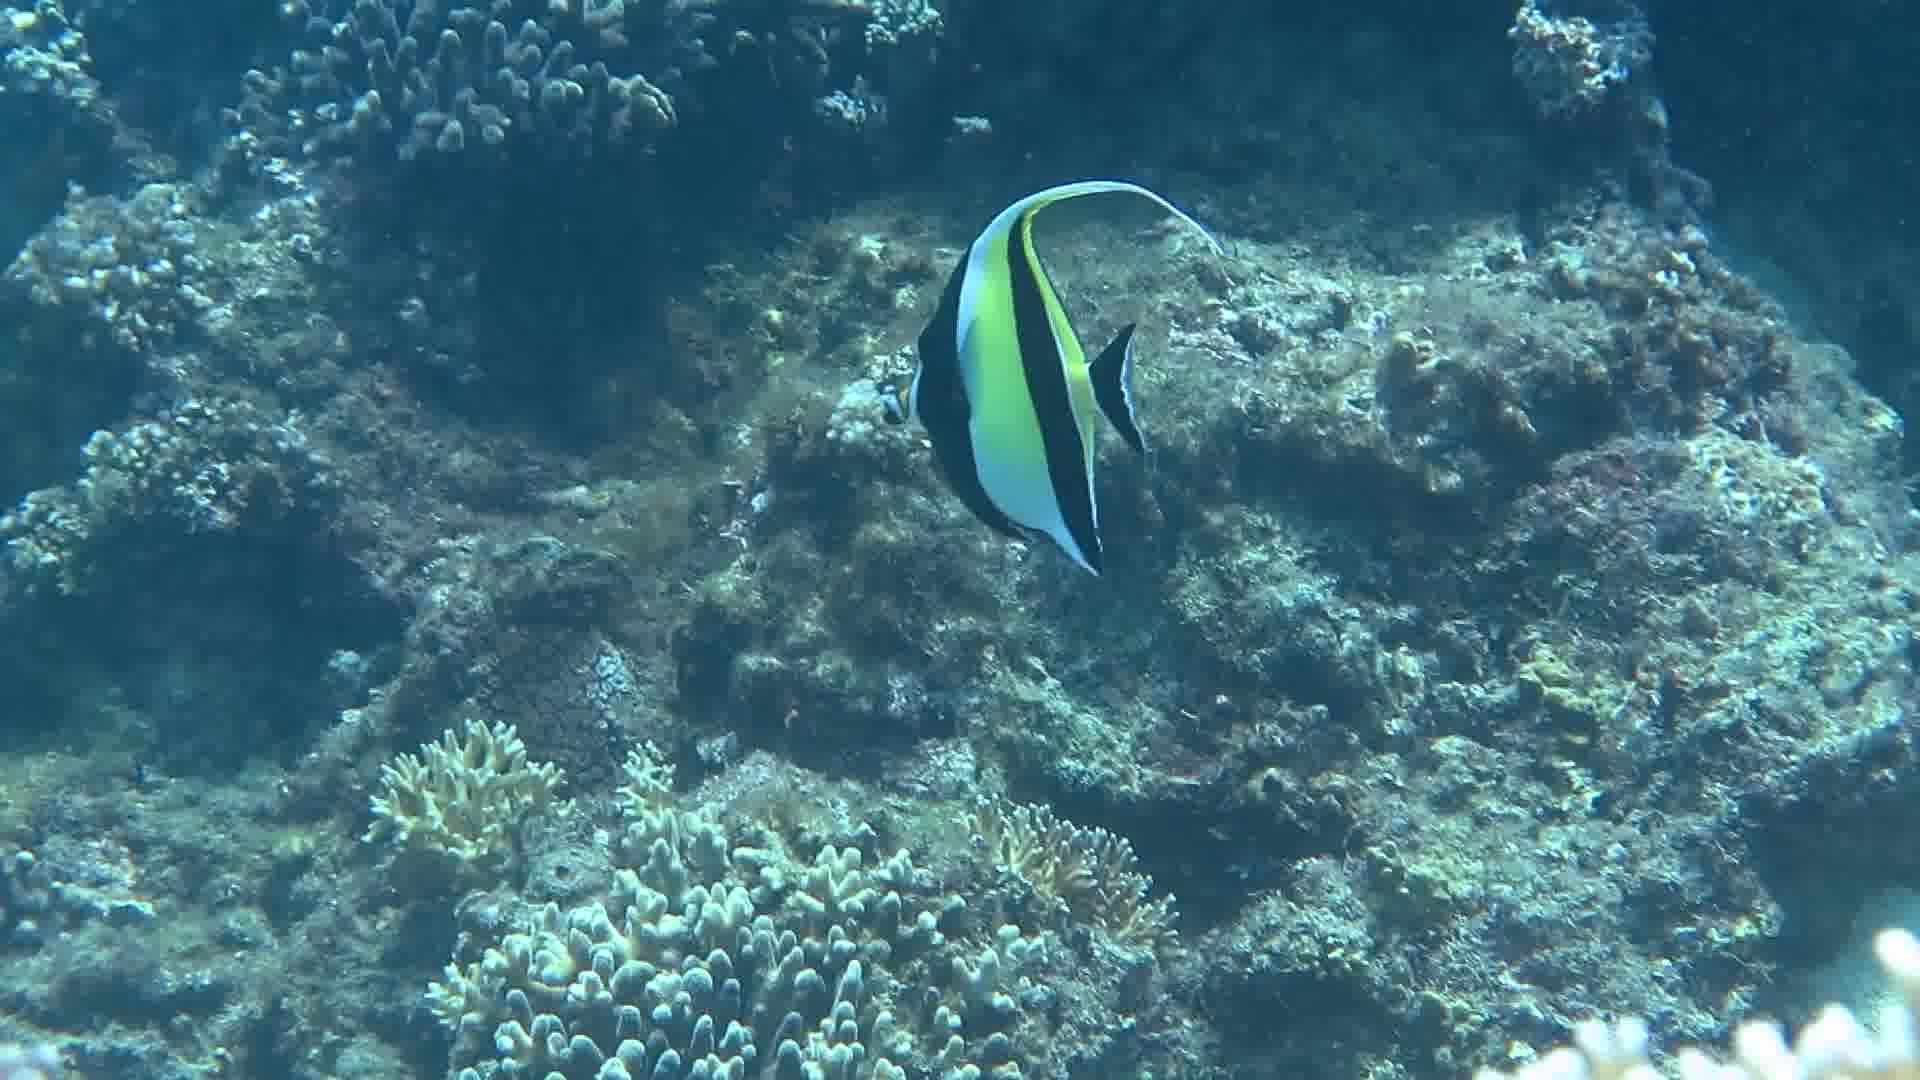Zanclus cornutus: (881, 185, 1222, 615)
